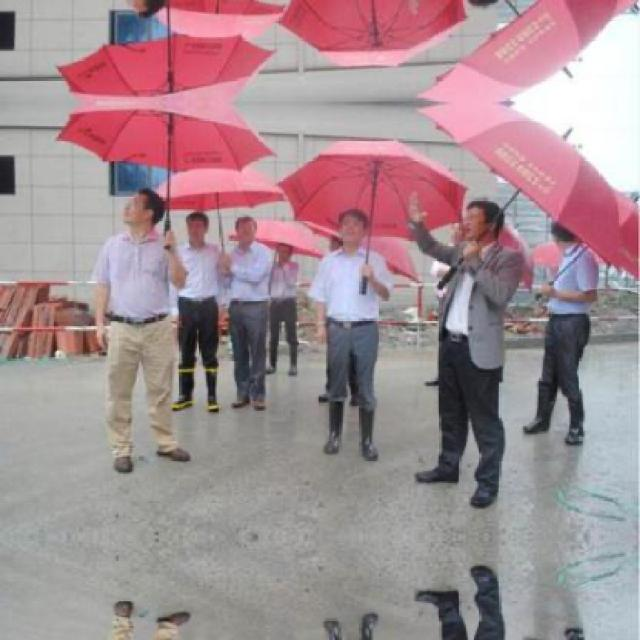sin casco: (458, 172, 553, 275), (104, 174, 184, 279), (316, 193, 385, 282), (216, 203, 272, 270), (170, 203, 220, 261)
